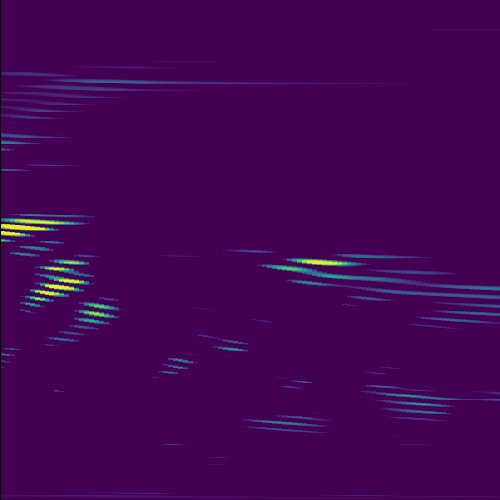semblance: (14, 251, 98, 313), (52, 295, 124, 345), (1, 212, 92, 245)
